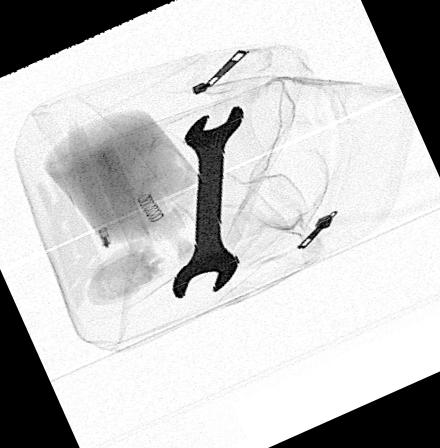Wrench: (170, 105, 243, 301)
